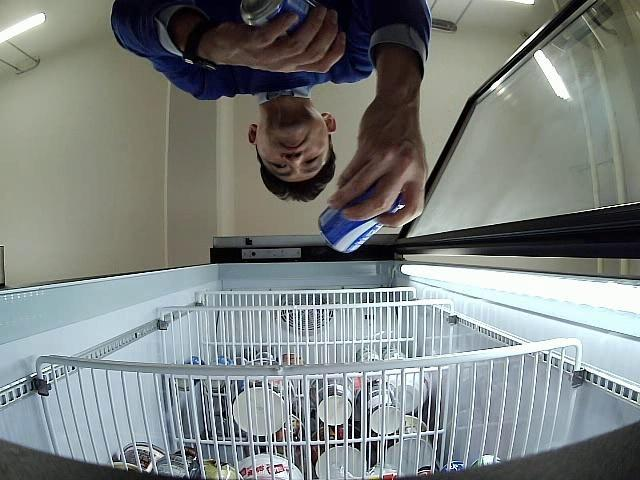13_pocariSweat: (320, 186, 407, 253), (240, 0, 316, 34)
